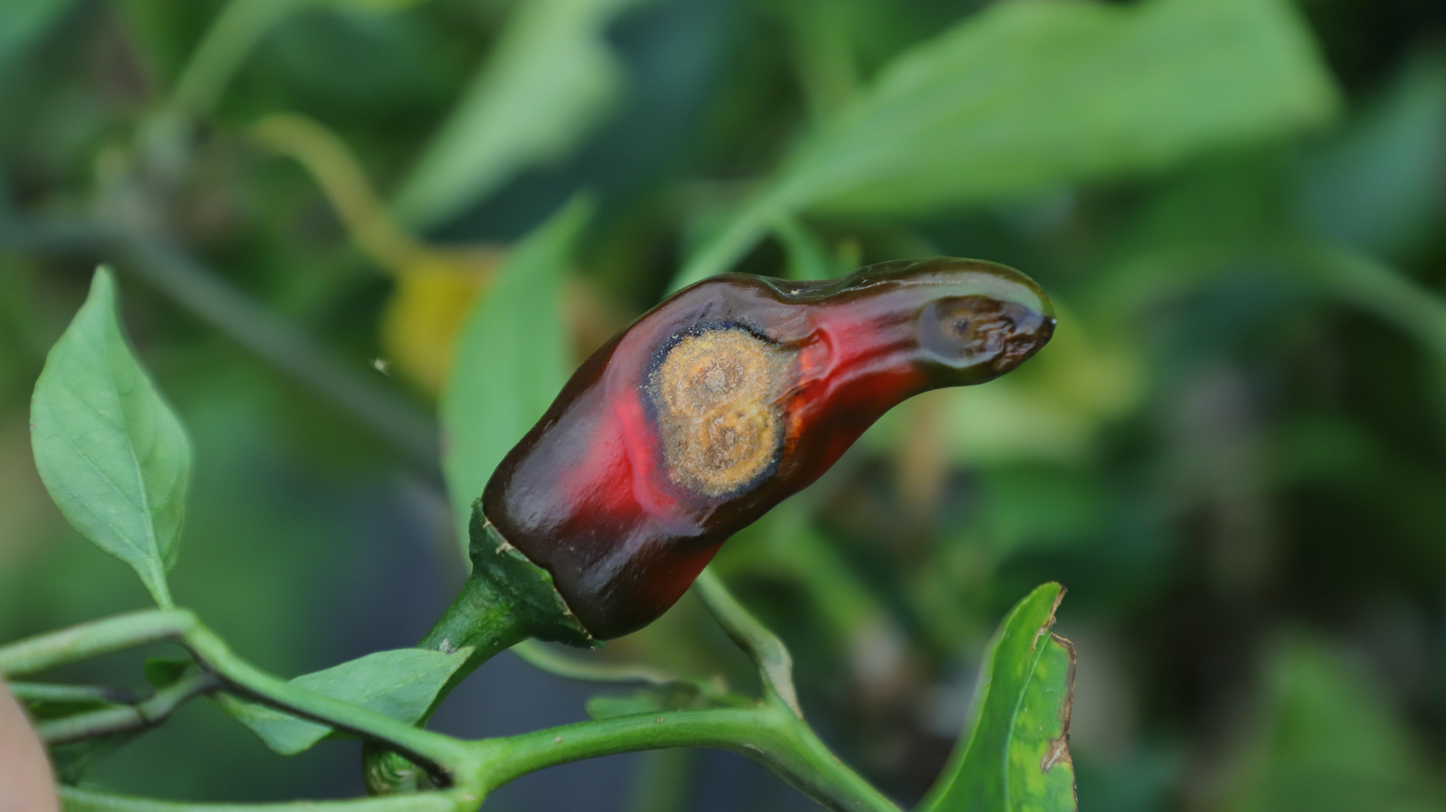Busuk Buah Antraknosa: (478, 253, 1059, 644)
